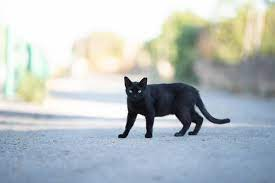cat: (118, 75, 233, 138)
